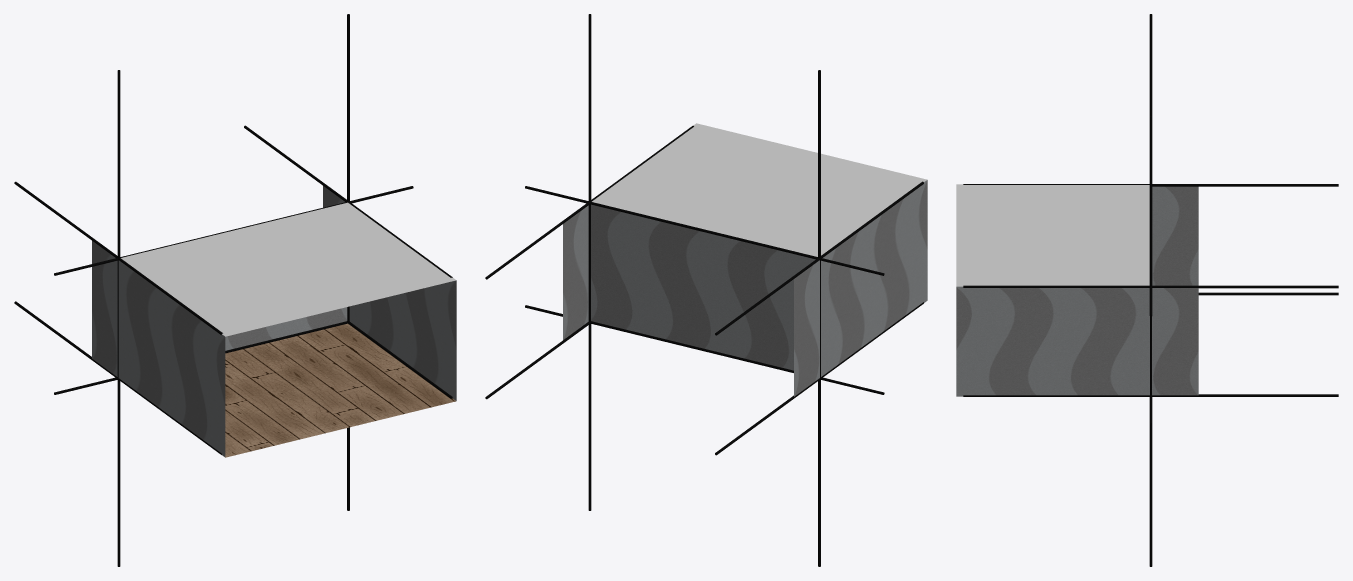
The model's file is Quarto1.fbx.
3 renders of one model, left to right at view 1: azimuth 30°, elevation 25°; view 2: azimuth 150°, elevation 25°; view 3: azimuth 270°, elevation 25°, orthographic. The views are drawn at different scales.
Visible parts, largest first — view 1: Plane.014, Plane.012, Plane.015, Plane.020, Cylinder.010, Cylinder.011, Plane.013, Cylinder.009; view 2: Plane.013, Plane.014, Plane.015, Cylinder.010, Plane.020, Cylinder.011, Cylinder.009; view 3: Plane.020, Plane.014, Plane.015, Cylinder.011, Cylinder.010.
Boxes of the visible parts, bbox=[...] form: Plane.014: bbox=[121, 202, 455, 336]; Plane.012: bbox=[225, 323, 455, 457]; Plane.015: bbox=[92, 241, 225, 457]; Plane.020: bbox=[323, 186, 456, 400]; Cylinder.010: bbox=[117, 14, 349, 566]; Cylinder.011: bbox=[14, 125, 452, 454]; Plane.013: bbox=[225, 307, 347, 350]; Cylinder.009: bbox=[54, 186, 413, 394]; Plane.013: bbox=[591, 204, 815, 370]; Plane.014: bbox=[592, 123, 926, 256]; Plane.015: bbox=[794, 180, 927, 396]; Cylinder.010: bbox=[588, 14, 820, 566]; Plane.020: bbox=[563, 205, 588, 339]; Cylinder.011: bbox=[485, 125, 923, 455]; Cylinder.009: bbox=[525, 186, 884, 394]; Plane.020: bbox=[956, 286, 1198, 396]; Plane.014: bbox=[956, 184, 1149, 286]; Plane.015: bbox=[1152, 186, 1198, 285]; Cylinder.011: bbox=[963, 184, 1338, 396]; Cylinder.010: bbox=[1149, 14, 1152, 566].
Size of the model in its own units: 620 by 820 by 631.
